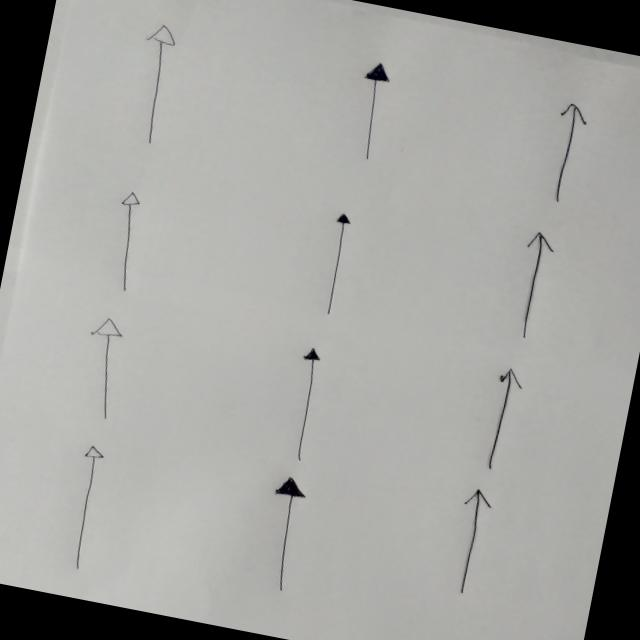arrow_line_up: (250, 474, 316, 598), (125, 21, 186, 151), (56, 440, 114, 572), (96, 185, 160, 298), (72, 314, 137, 424), (442, 486, 500, 602), (505, 228, 561, 344), (280, 344, 334, 464), (345, 57, 400, 170), (536, 101, 594, 207), (475, 365, 529, 478), (315, 209, 361, 320)
